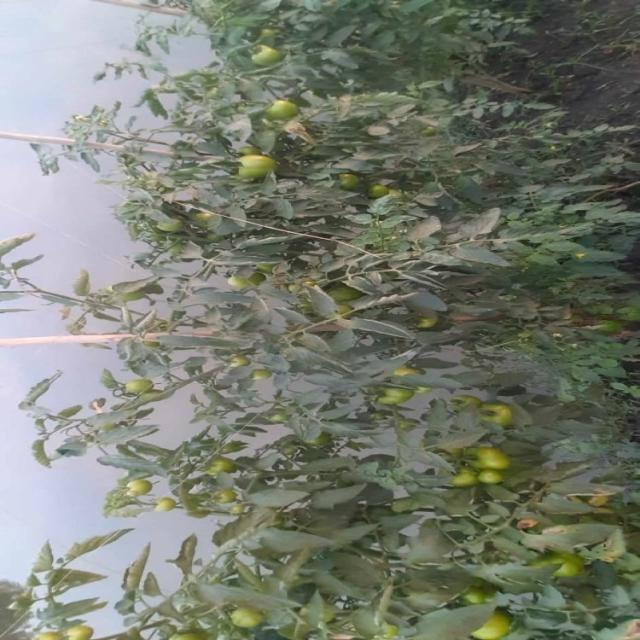tomato: (523, 544, 606, 587), (344, 167, 397, 204), (466, 606, 521, 640), (235, 34, 284, 71), (467, 399, 521, 430), (124, 370, 166, 408), (474, 446, 511, 486), (450, 464, 485, 502), (204, 454, 255, 480), (228, 604, 268, 635), (126, 473, 164, 505), (259, 95, 298, 125), (235, 148, 269, 182), (375, 379, 409, 413), (71, 268, 99, 300), (52, 623, 97, 640), (150, 492, 174, 519)
